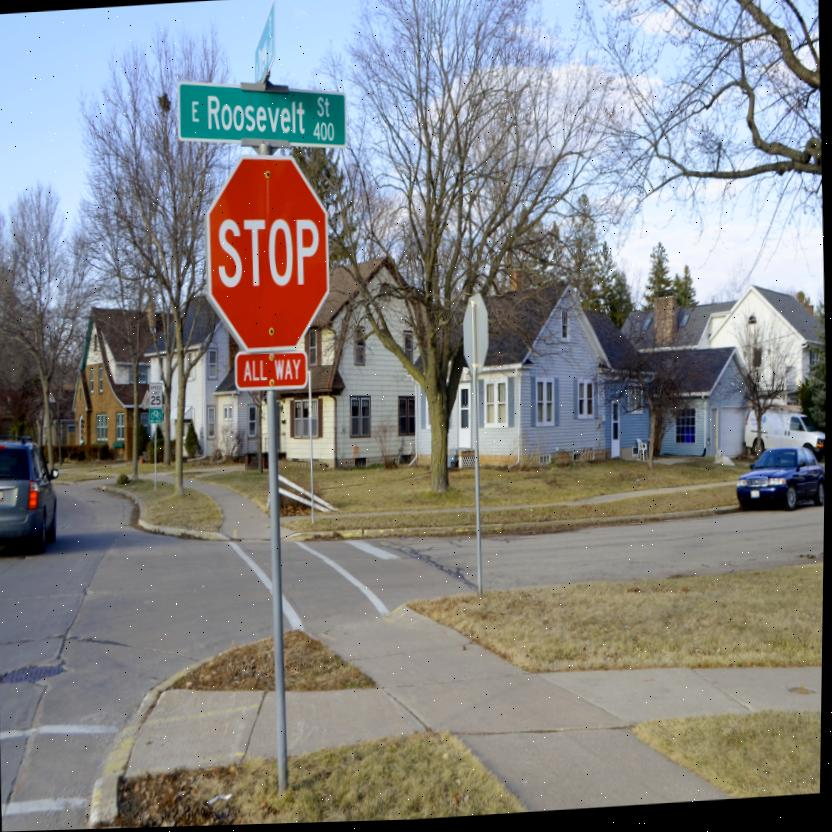Pole: (265, 391, 295, 797), (470, 379, 488, 599), (309, 418, 318, 527), (154, 425, 160, 493)
Sign: (203, 154, 337, 356)
